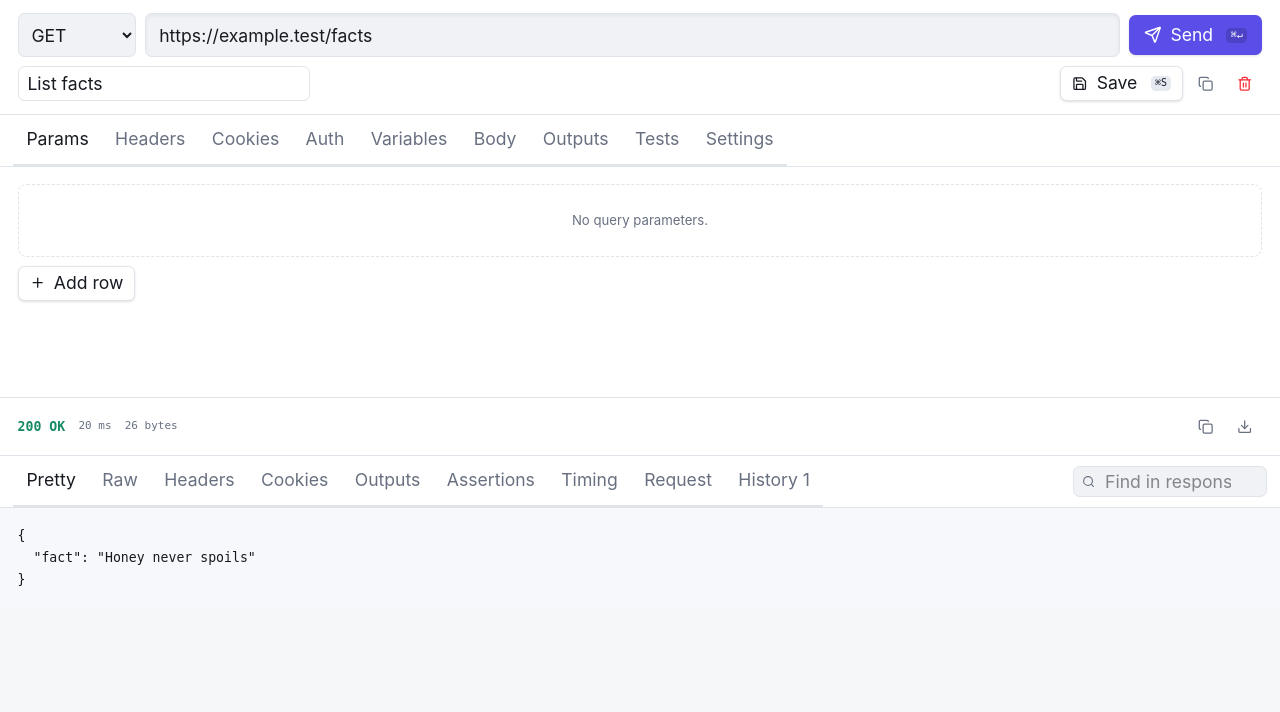
Test: RequestEditor › previews variable origins while keeping secret values masked
Expected: the field named "Request URL" is shown, left=145, top=13, right=1120, bottom=57
Click the button "Variables". click: (409, 141)
box: left=358, top=115, right=460, bottom=166
(page scrolled)
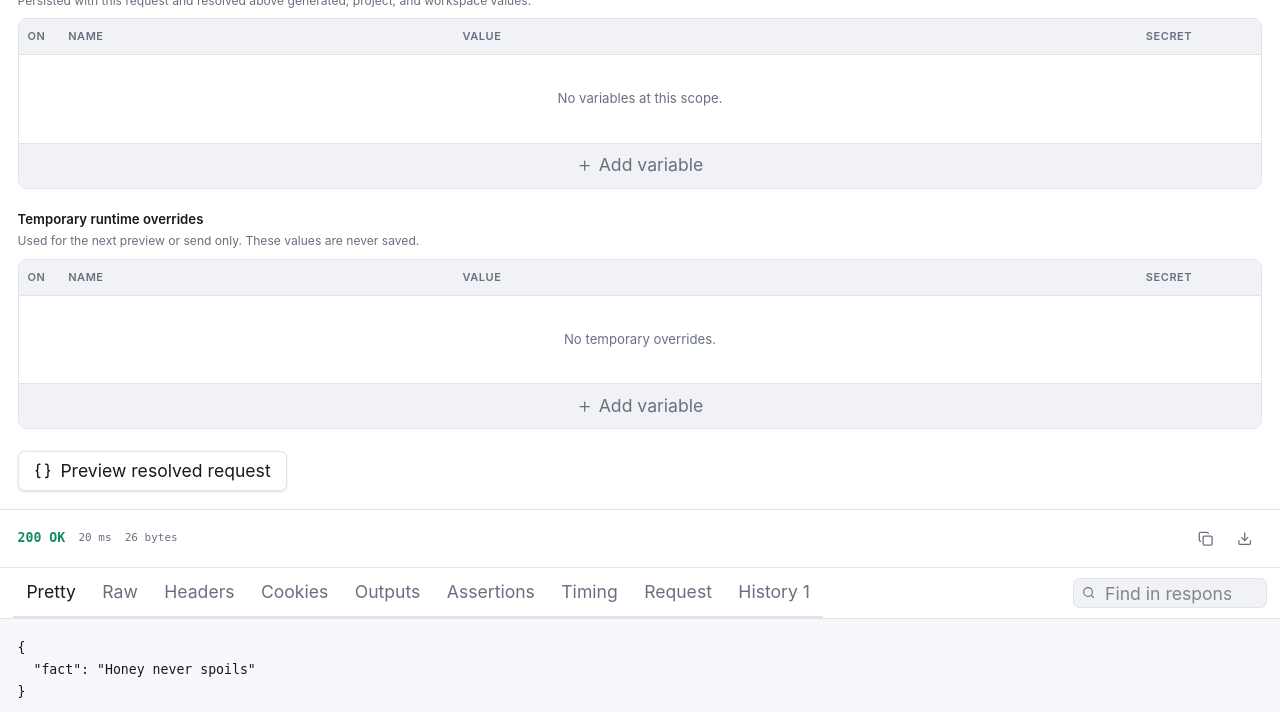
Click the button "Add variable" below "No temporary overrides.". click: (640, 406)
box: left=19, top=384, right=1261, bottom=428
(page scrolled)
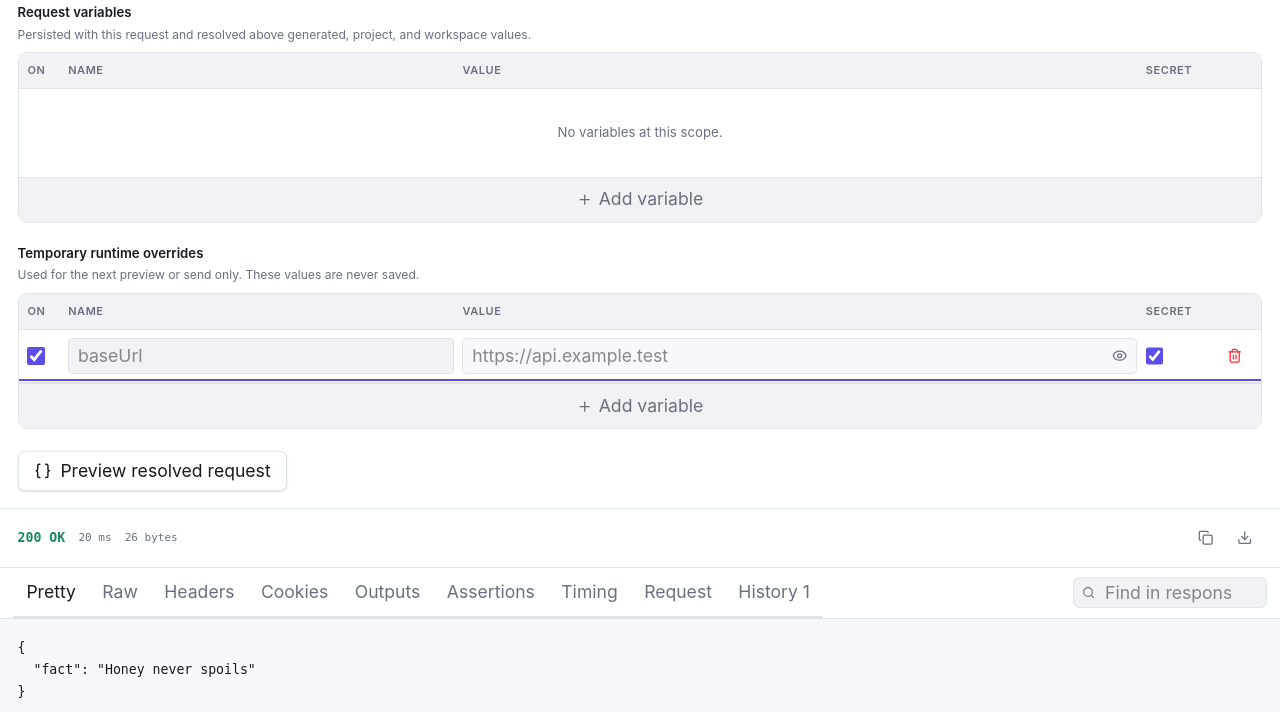
Type "token" into the field named "Variable name 1". click: (261, 356)
box: left=68, top=338, right=454, bottom=374
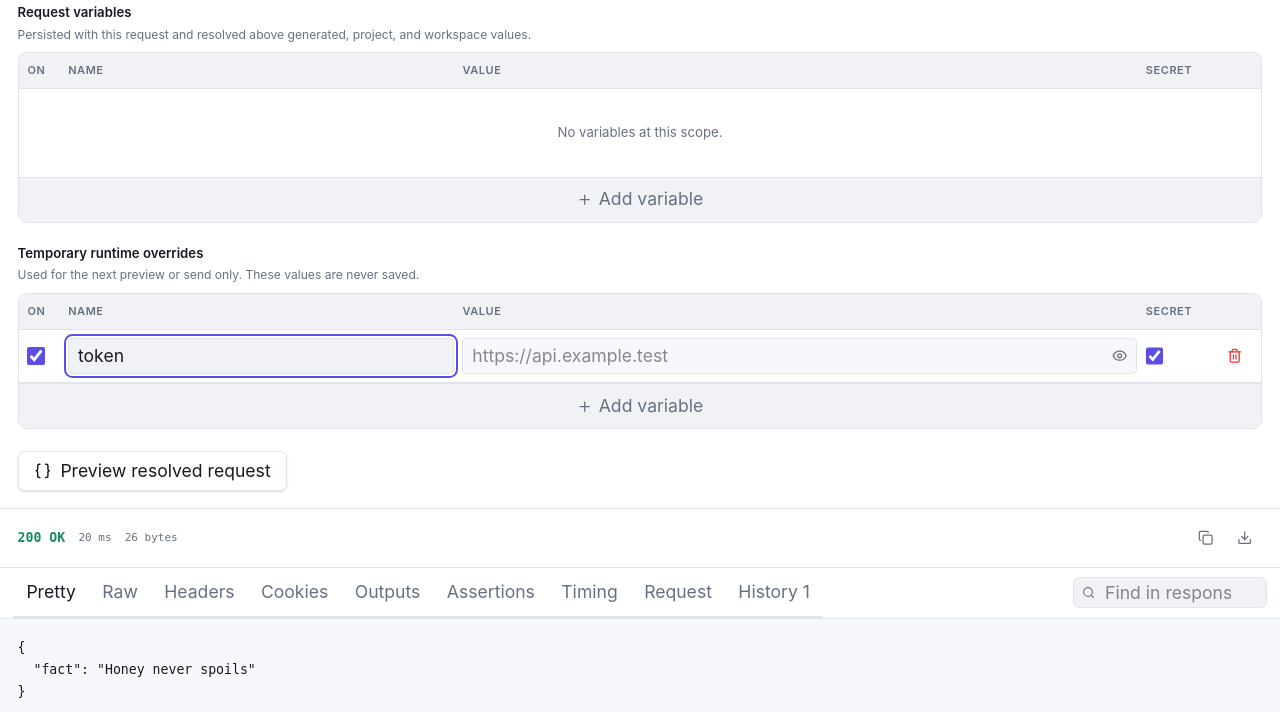
Type "super-secret" into the password field named "Variable value 1". click: (800, 356)
box: left=462, top=338, right=1137, bottom=374
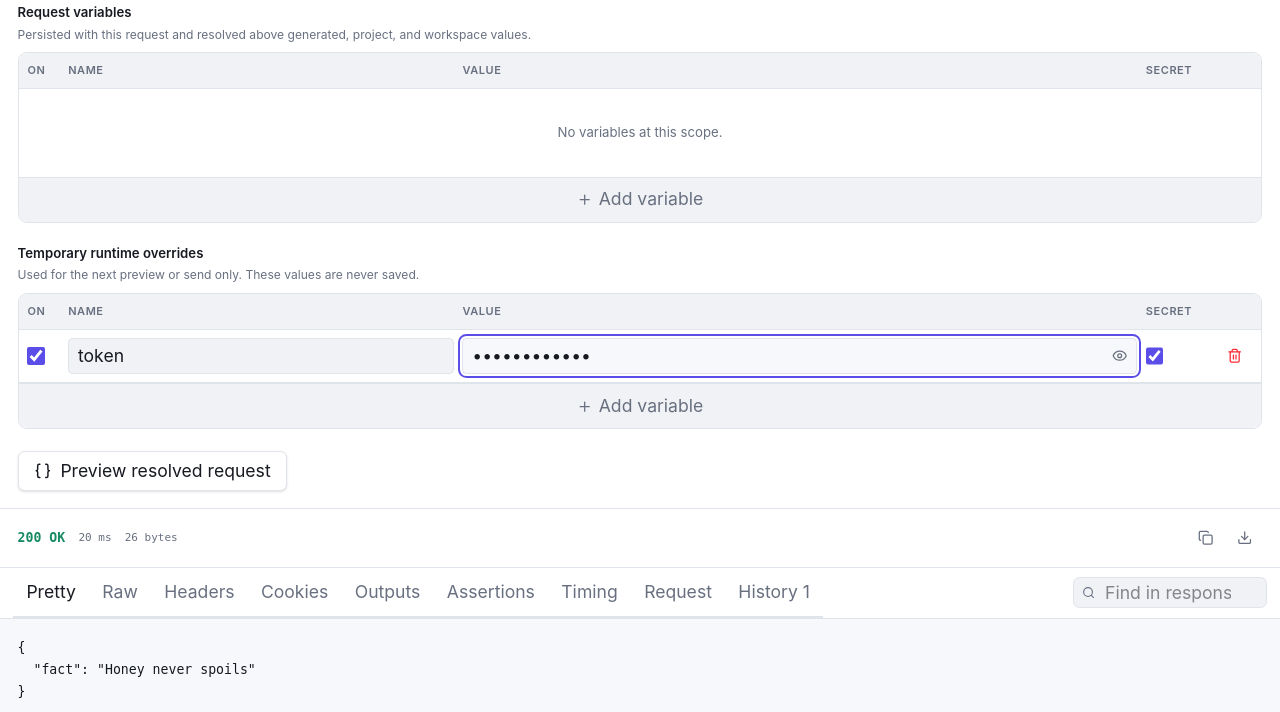
Click the button "Preview resolved request". click: (152, 471)
box: left=18, top=451, right=287, bottom=491
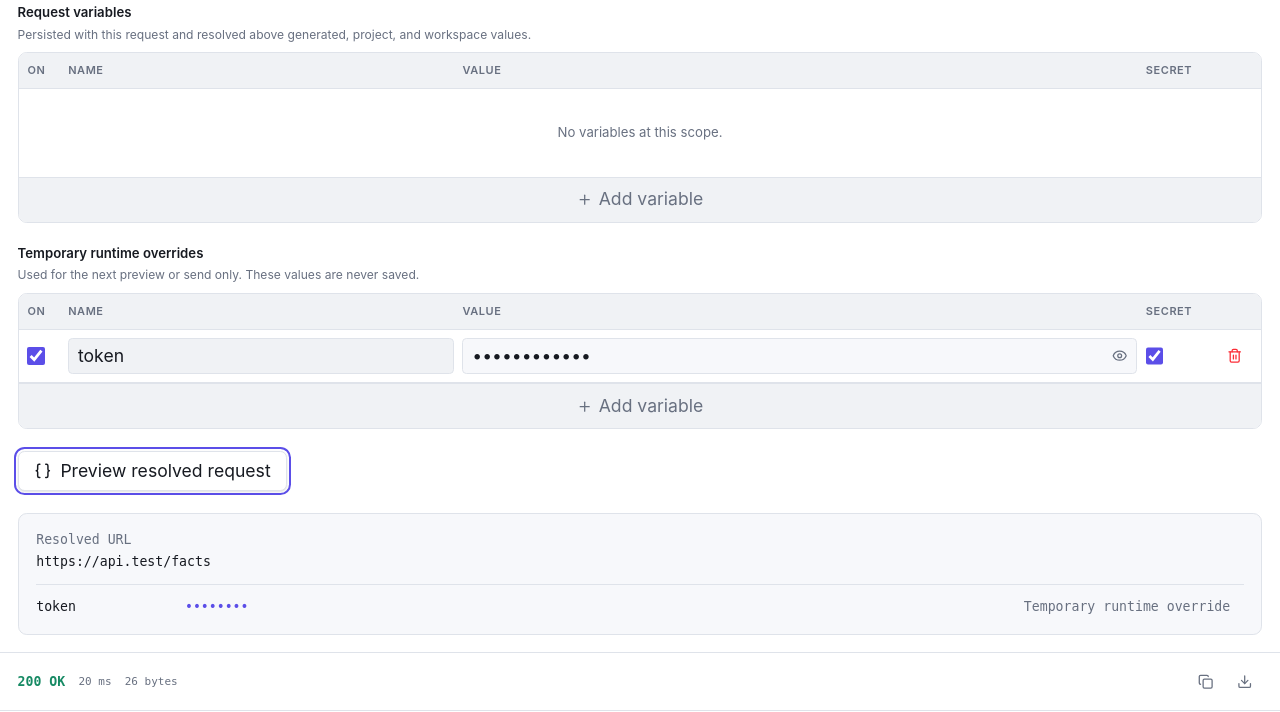
Result: the text "https://api.test/facts" is shown at left=36, top=554, right=211, bottom=570
Result: the text "••••••••" is shown at left=185, top=599, right=248, bottom=614
